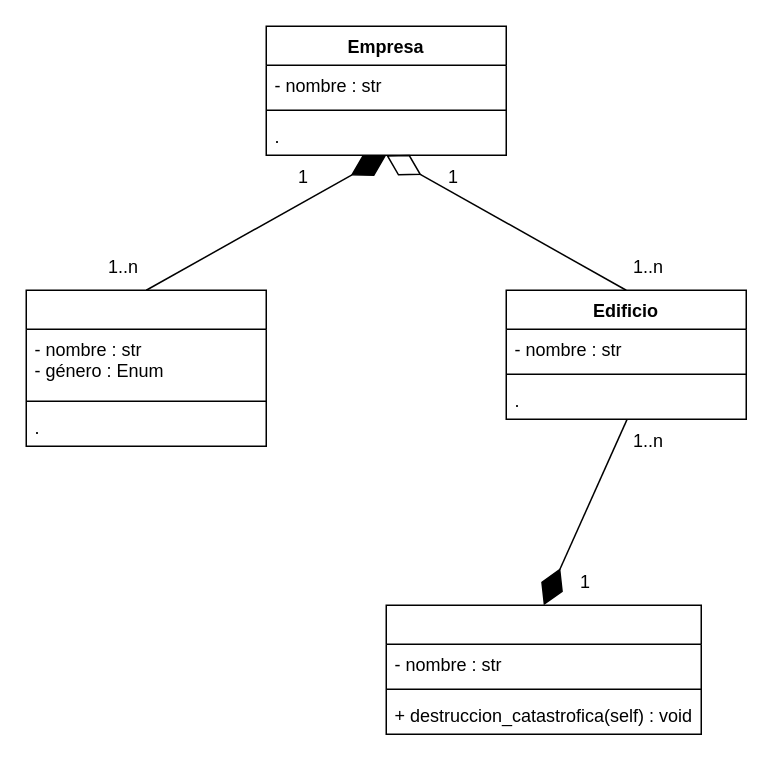
This 773x765 diagram has some shape labels left out. Here are the shapes that lost their labels. From the top down, the box of each, then its label:
(25, 289, 266, 446): Empleado
(385, 604, 701, 734): Ciudad
